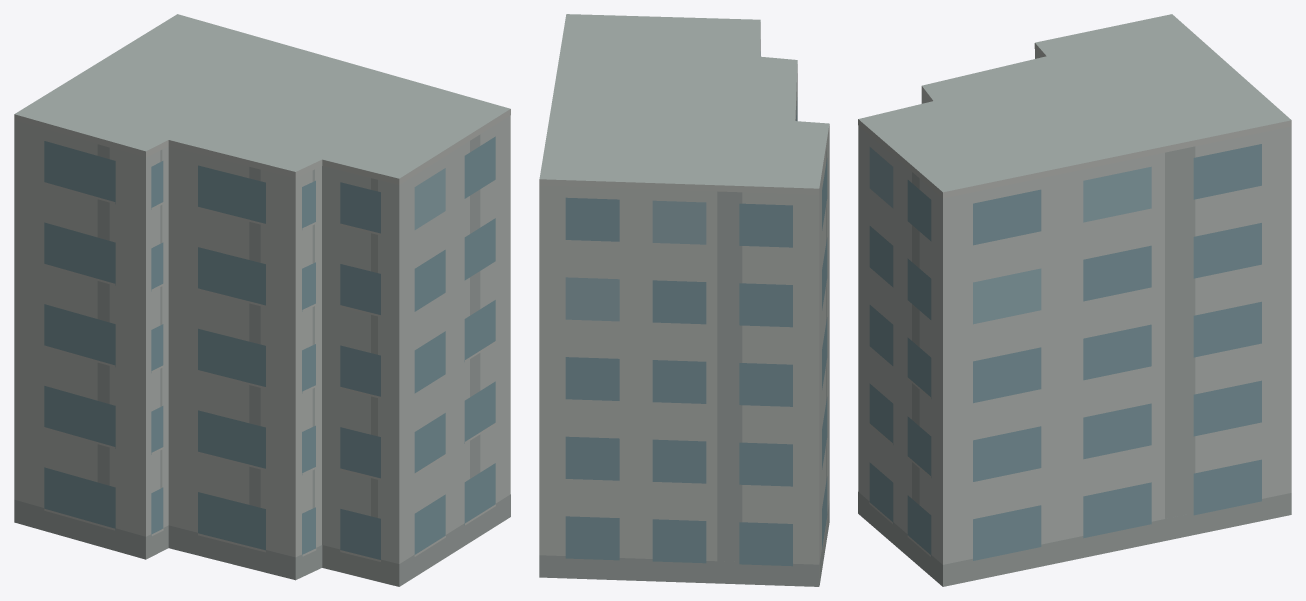
Rendered from survey-upis-33002882.glb.
The picture shows the model from 3 angles, left to right: view 1: azimuth 30°, elevation 25°; view 2: azimuth 150°, elevation 25°; view 3: azimuth 270°, elevation 25°; orthographic projection. The views are drawn at different scales.
Visible parts, largest first — view 1: survey-upis-33002882.tmp; view 2: survey-upis-33002882.tmp; view 3: survey-upis-33002882.tmp.
Part boxes in pixels (x1=…): survey-upis-33002882.tmp: x1=14, y1=14, x2=510, y2=586; survey-upis-33002882.tmp: x1=539, y1=14, x2=829, y2=586; survey-upis-33002882.tmp: x1=858, y1=14, x2=1291, y2=586.
Size of the model in its own units: 15.03 by 15.5 by 15.44.
